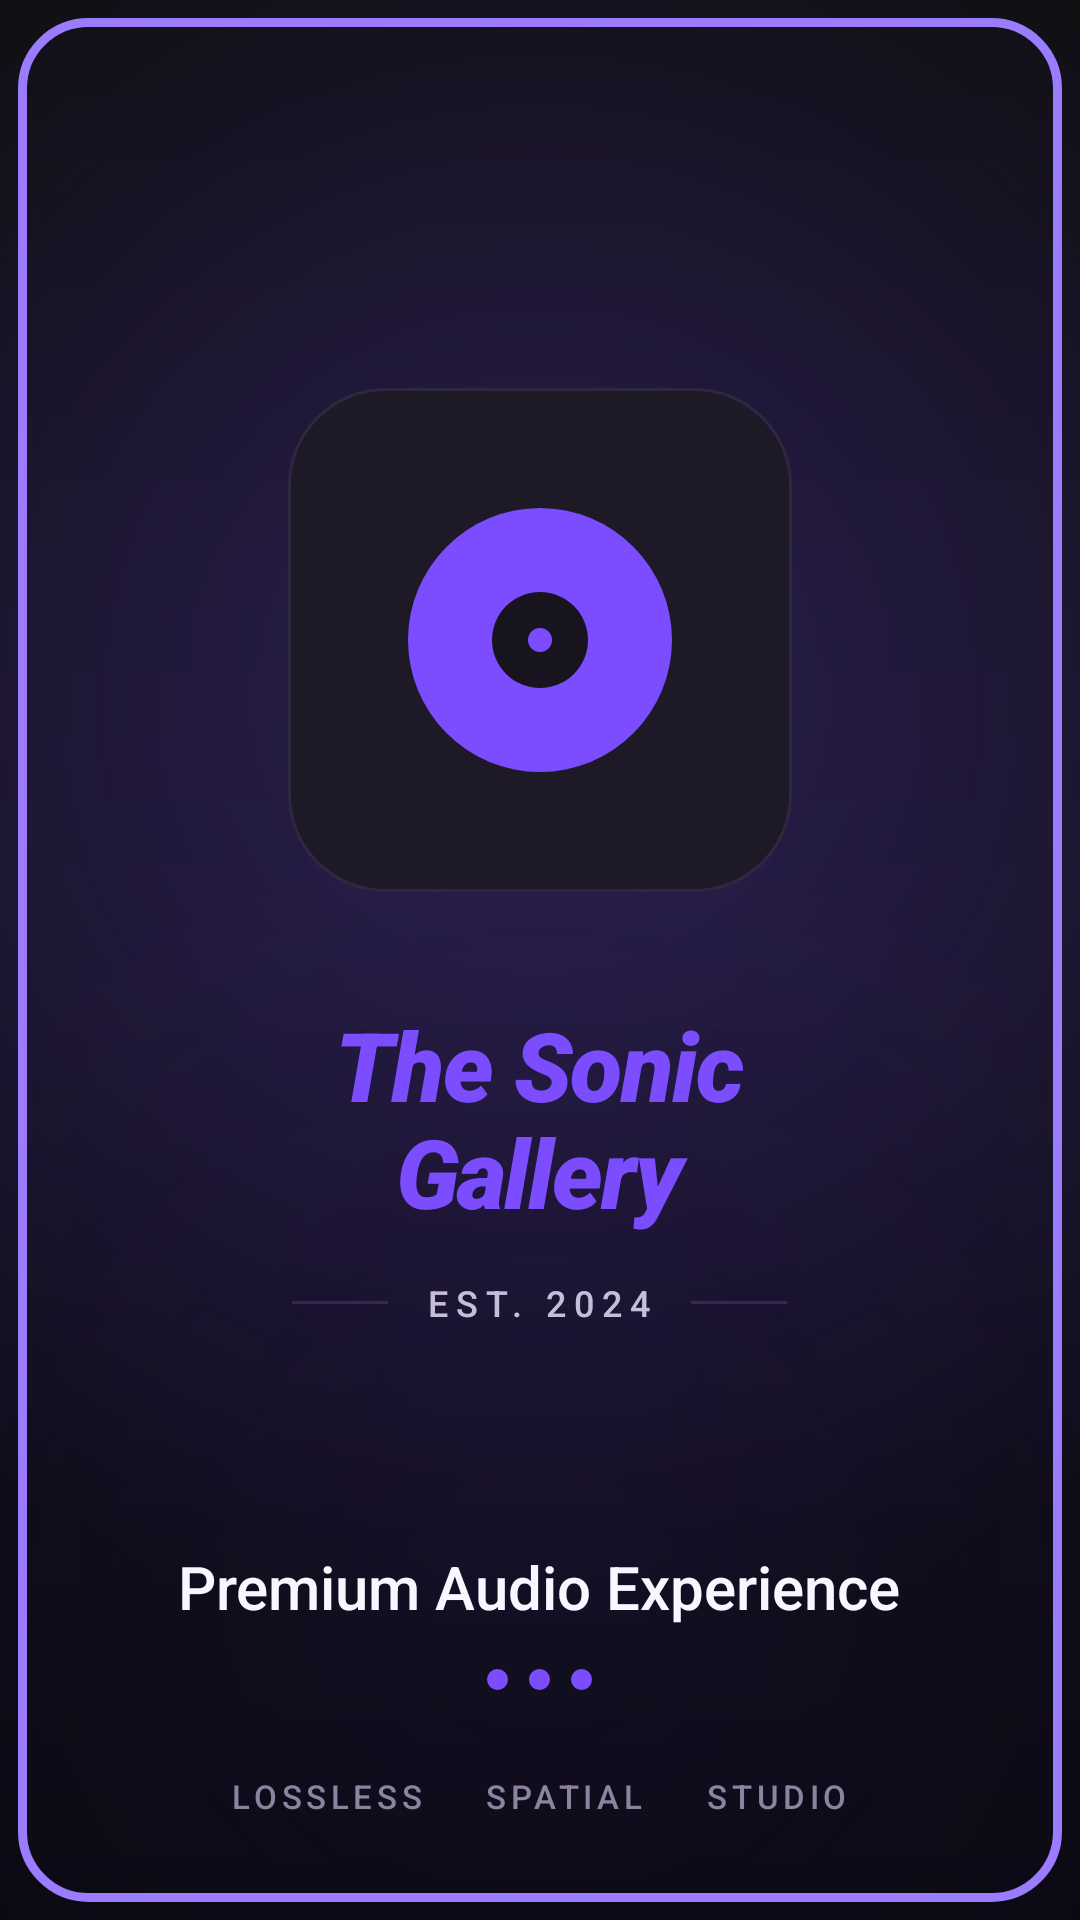

Point at icon controls on the screen. Image size 1080 × 1920, points as [x,y].
sonic disc: [540,640]
